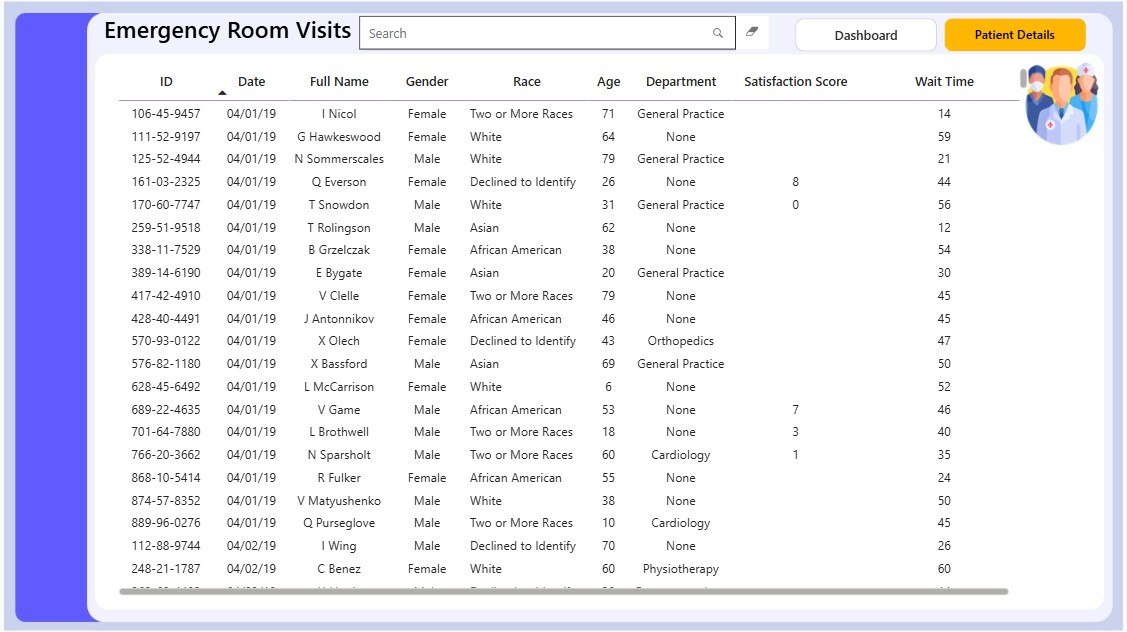

Layout of this report page (visuals, bound fields, positions):
{"tool":"powerbi","page":{"name":"Patient Details","canvas":[1920,1080],"ordinal":1},"visuals":[{"type":"tableEx","fields":{"Values":["Hospital_ER.Patient ID","Hospital_ER.Date","Hospital_ER.Full Name","Hospital_ER.Gender","Hospital_ER.Race","Sum(Hospital_ER.Age)","Hospital_ER.Department Referral","Sum(Hospital_ER.Satisfaction Score)","Sum(Hospital_ER.Wait Time)"]},"box":[434.3,238.6,1114.3,632.9],"z":0},{"type":"textFilter25A4896A83E0487089E2B90C9AE57C8A","fields":{"field":["Hospital_ER.Full Name"]},"box":[709.7,179,500,69.4],"z":1},{"type":"textbox","box":[434.6,189.7,300,48.7],"z":2},{"type":"pageNavigator","box":[1224.2,195.2,333.9,38.7],"z":3}]}

Visuals, with their boxes in screenshot pixels (x1, y1, x2, y2), scaled from the page's 1920x1080 canvas onto the 1127x632 screenshot:
tableEx - Hospital_ER.Patient ID x Hospital_ER.Date: (left=255, top=140, right=909, bottom=510)
textFilter25A4896A83E0487089E2B90C9AE57C8A - Hospital_ER.Full Name: (left=417, top=105, right=710, bottom=145)
textbox: (left=255, top=111, right=431, bottom=140)
pageNavigator: (left=719, top=114, right=915, bottom=137)
